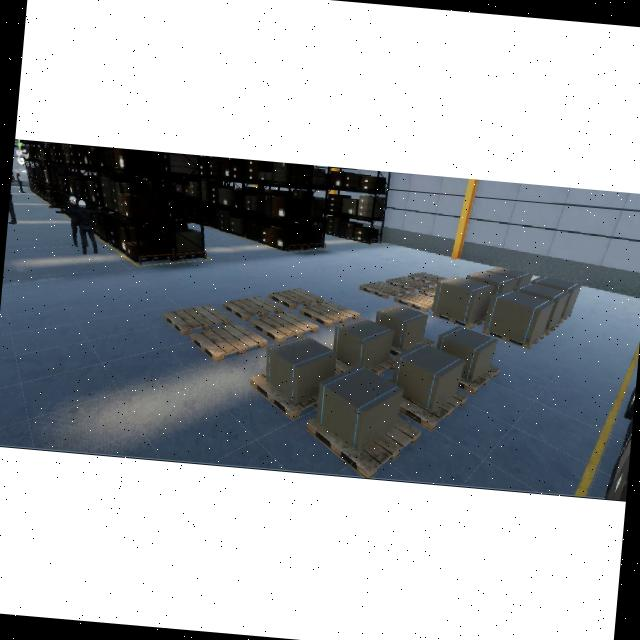wooden_pallet: (305, 416, 420, 479), (249, 372, 319, 420), (188, 323, 268, 362), (398, 391, 467, 432), (162, 303, 232, 335), (250, 311, 319, 343), (300, 301, 360, 327), (221, 296, 282, 320), (481, 329, 544, 349), (269, 287, 323, 309), (458, 366, 499, 394), (358, 280, 406, 298), (432, 312, 486, 328), (393, 291, 433, 312), (386, 276, 429, 291), (408, 271, 446, 285)
